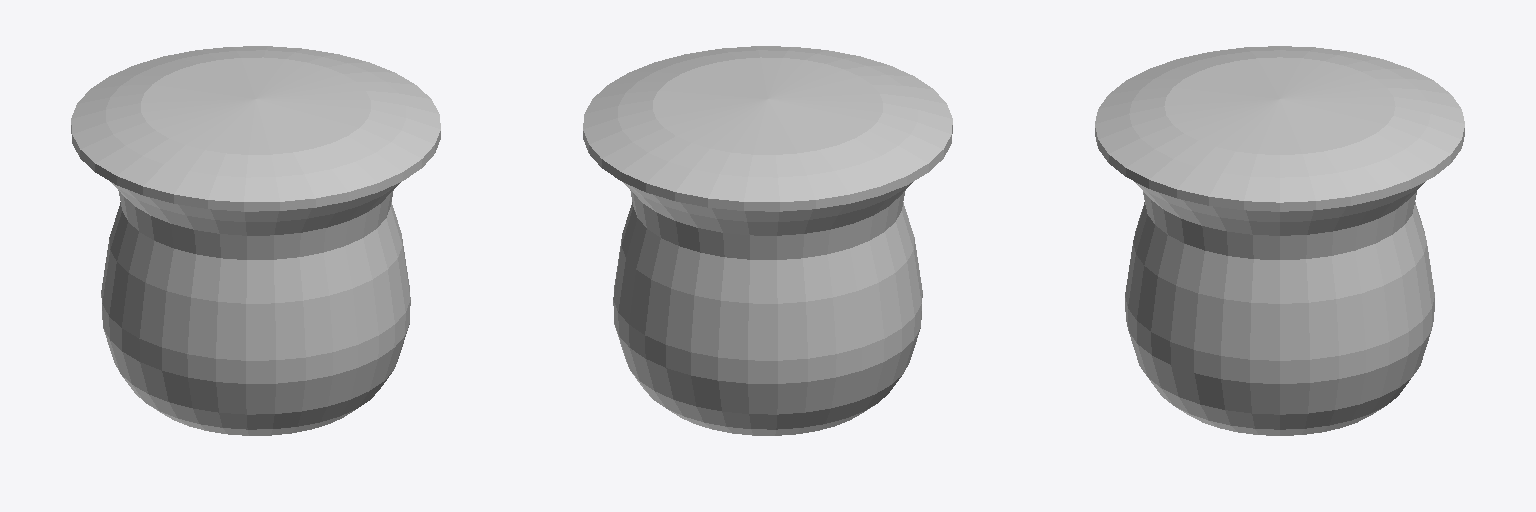
File: vase.obj
The picture shows the model from 3 angles: view 1: azimuth 30°, elevation 25°; view 2: azimuth 150°, elevation 25°; view 3: azimuth 270°, elevation 25°; orthographic projection.
Bounding box in the file's own units: 0.3939 × 0.3677 × 0.3939.